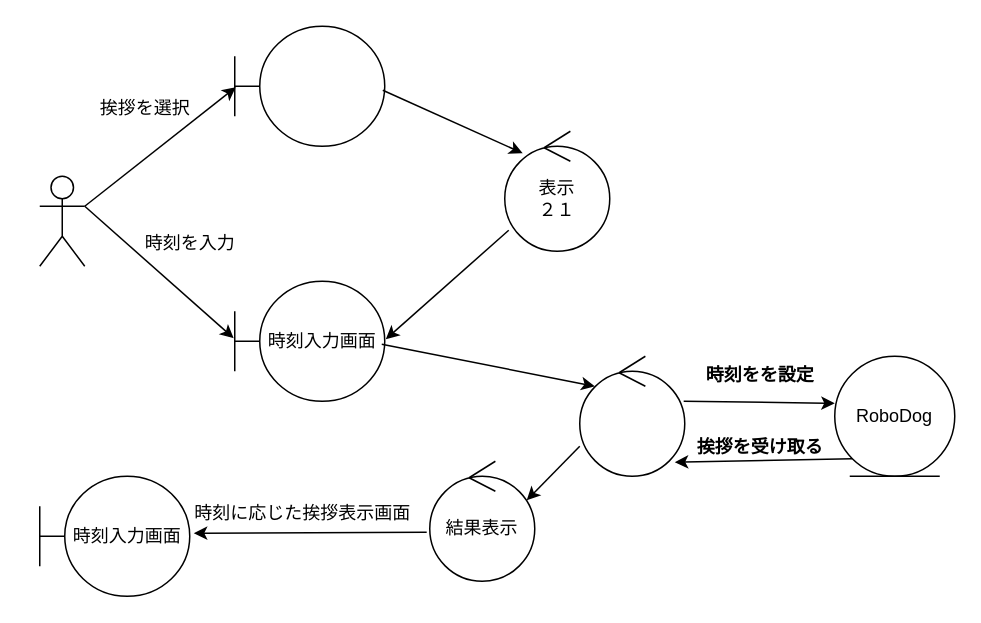
Some shapes in this 981 by 623 pixel diagram are drawn without their labels. Each missing label, with the box of its shape:
RoboDog システムメニュー: (233, 25, 385, 146)
ユーザー: (38, 175, 85, 266)
時刻を設定: (578, 355, 685, 476)
